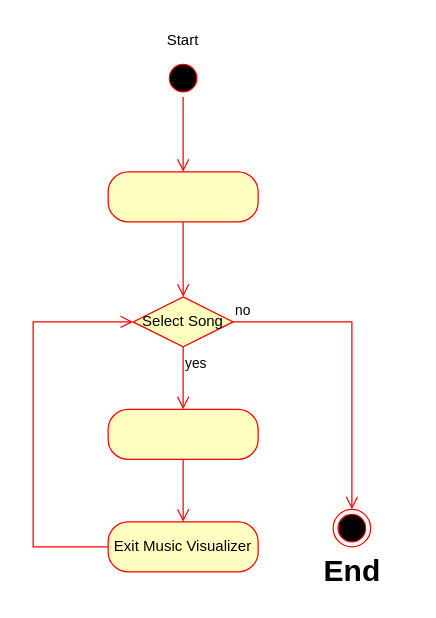
The diagram is 436 pixels wide and 618 high, and some of its shapes have lost their labels. The shapes that lost their labels are listed below. From the top down, each one's centre as x and y in pixels, then its label:
At [182,196]: "Open Program".
At [182,433]: "Open Music Visualizer".
